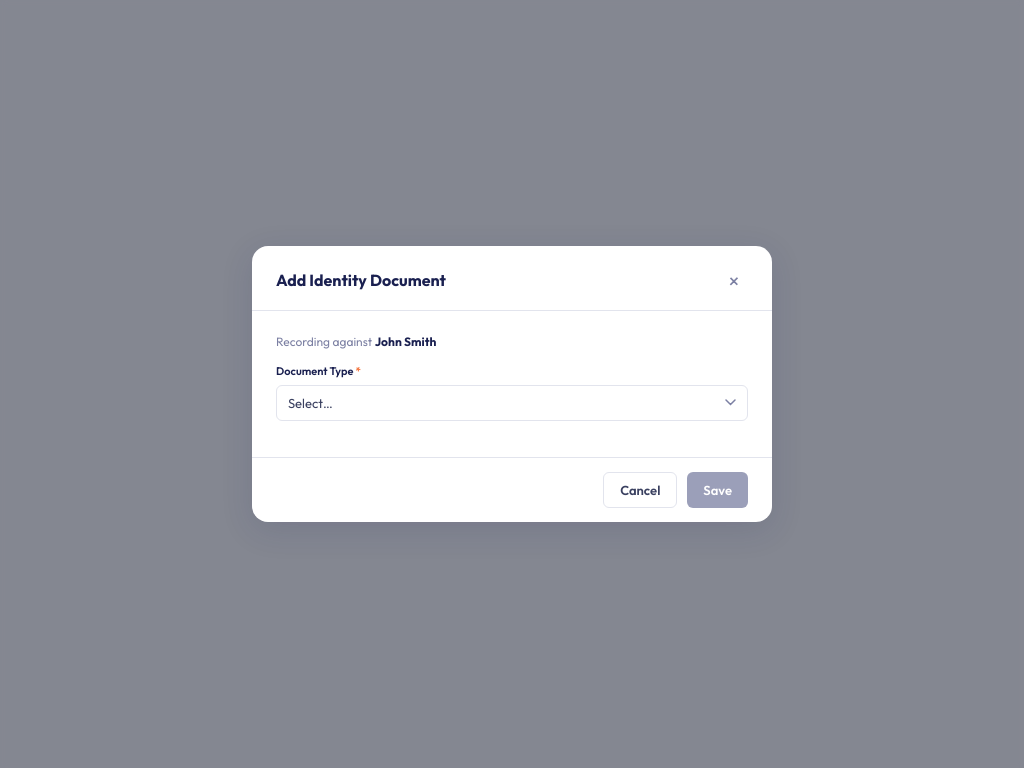
IdentityDocumentModal › will not take a passport number without its issuing country
This screenshot has width=1024, height=768.
Step 1. Select "Passport" in the dropdown labelled "Document Type *" → (512, 403), box [276,385,748,421]
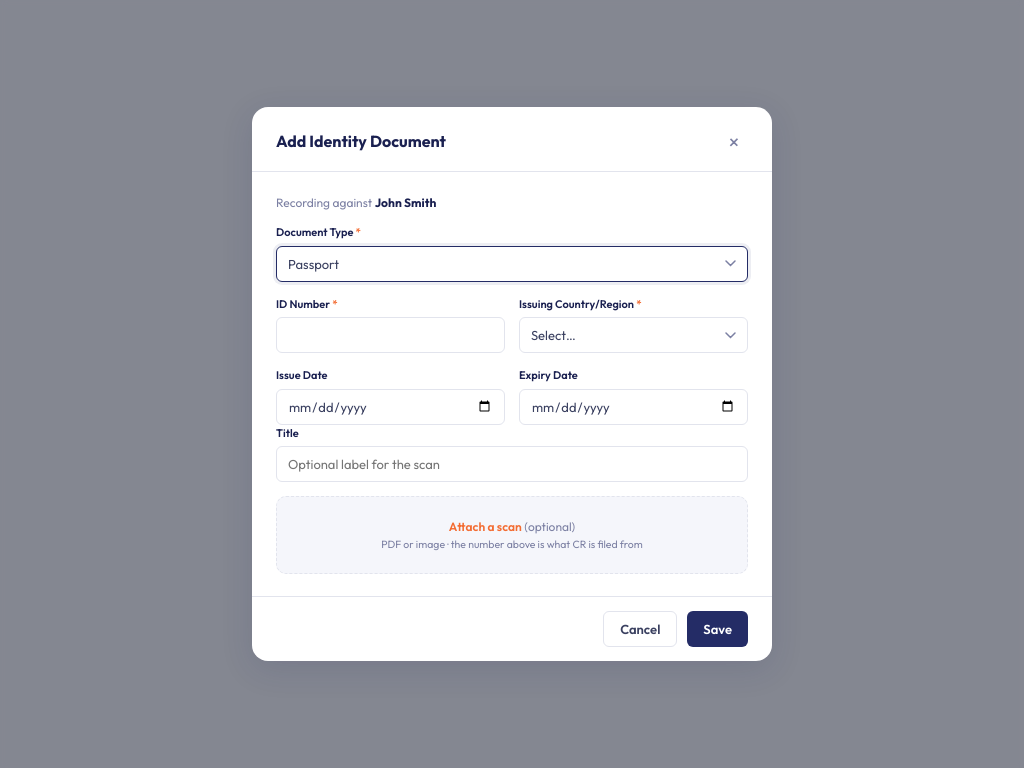
Step 2. Type "987654321" into the field labelled "ID Number *" → (390, 335), box [276,317,505,353]
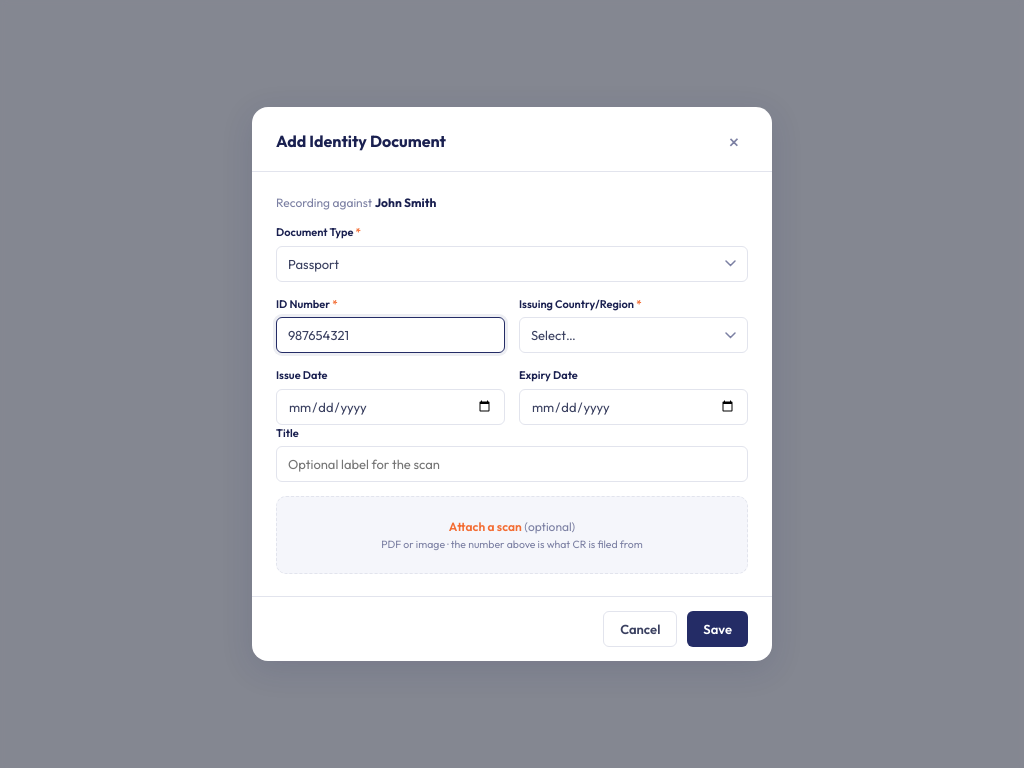
Step 3. Click the button "Save" → (718, 629), box [687,611,748,647]
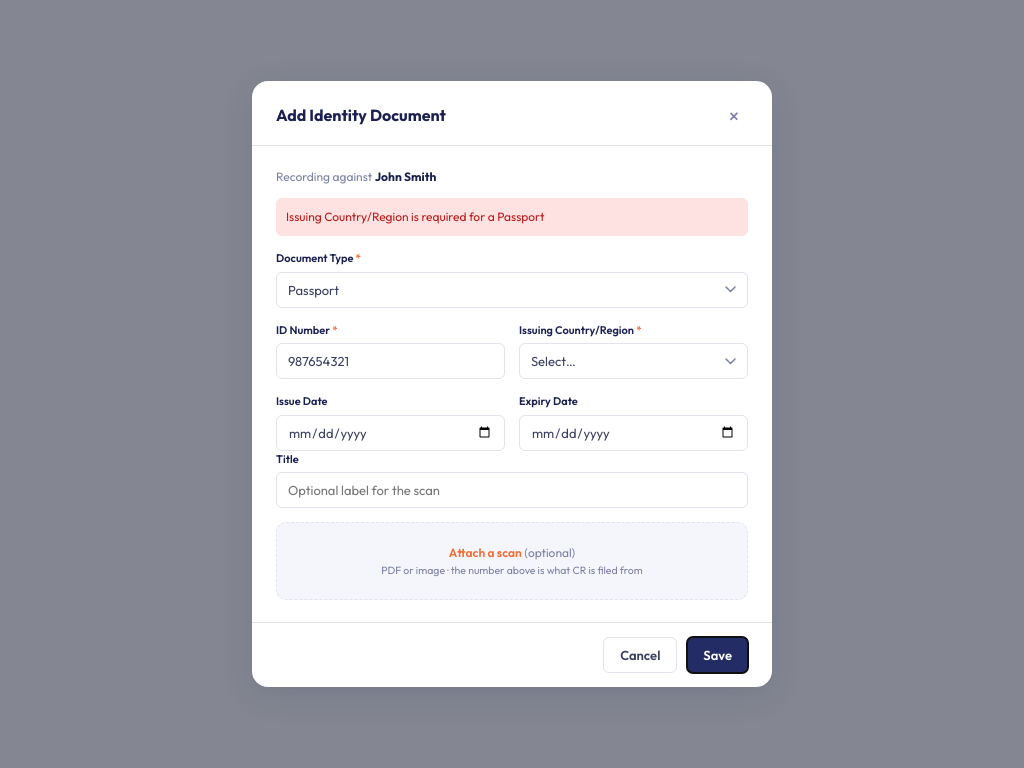
expect the text "Issuing Country/Region is required for a Passport" is shown: met, box [276,198,748,236]
